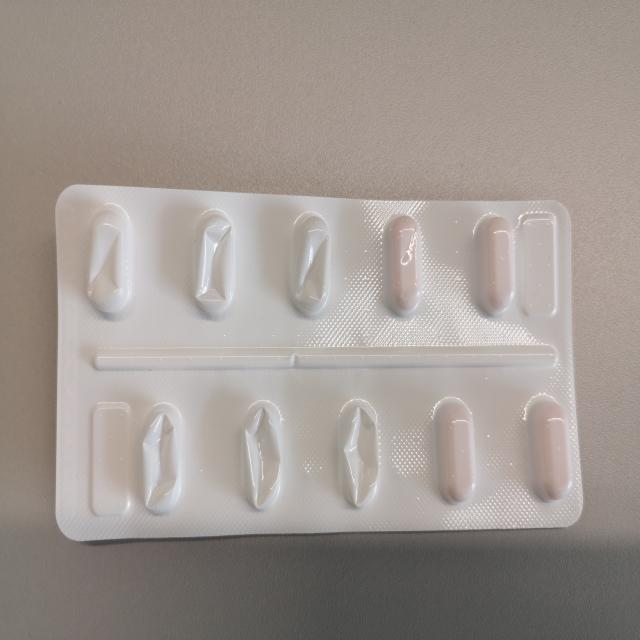Empty: (230, 393, 292, 517), (326, 391, 388, 514), (78, 203, 139, 326), (131, 398, 192, 520), (280, 206, 337, 324), (187, 203, 242, 325)
Pill: (512, 392, 574, 506), (423, 394, 482, 510), (464, 210, 517, 322), (378, 210, 428, 322)
